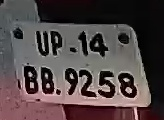1: (77, 29, 90, 59)
2: (79, 67, 96, 99)
4: (89, 29, 109, 59)
5: (98, 67, 115, 99)
8: (117, 71, 138, 101)
9: (63, 65, 78, 96)
B: (21, 62, 39, 95), (39, 62, 55, 95)
P: (48, 26, 64, 59)
U: (34, 29, 51, 59)
